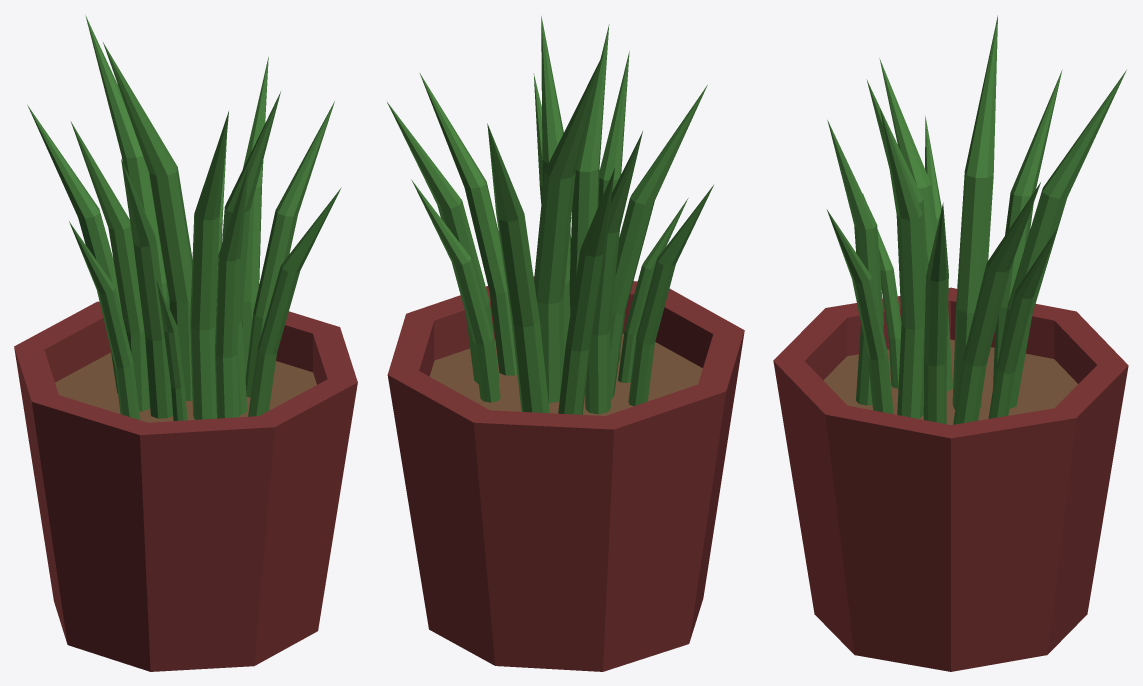
Rendered from Flower_4.fbx.
The picture shows the model from 3 angles, left to right: view 1: azimuth 30°, elevation 25°; view 2: azimuth 150°, elevation 25°; view 3: azimuth 270°, elevation 25°; orthographic projection. The views are drawn at different scales.
Parts seen in each view (by area): view 1: Flower_4; view 2: Flower_4; view 3: Flower_4.
Part boxes in pixels (left/top/right/bottom): Flower_4: left=14, top=15, right=357, bottom=671; Flower_4: left=387, top=16, right=744, bottom=671; Flower_4: left=773, top=15, right=1128, bottom=671.
Size of the model in its own units: 20.53 by 20.52 by 36.41.
